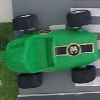carro: (3, 10, 97, 84)
